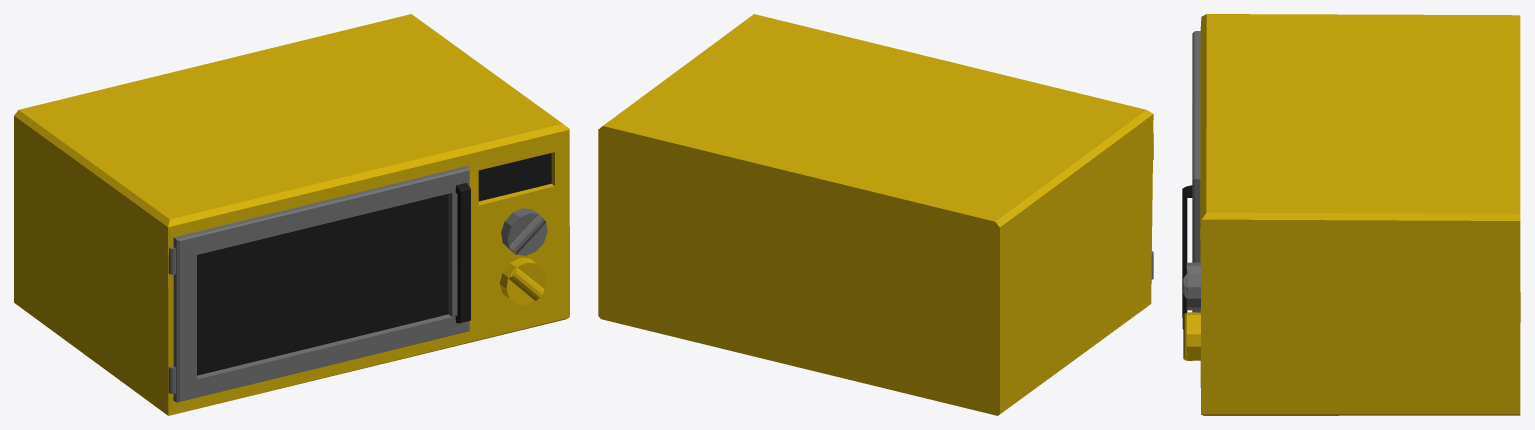
Rendered from LudumDareMicrowave 1.fbx.
3 renders of one model, left to right at view 1: azimuth 30°, elevation 25°; view 2: azimuth 150°, elevation 25°; view 3: azimuth 270°, elevation 25°, orthographic. The views are drawn at different scales.
Visible parts, largest first — view 1: Microwave, Microwave.003, Microwave.006, Microwave.002, Microwave.004, Microwave.001; view 2: Microwave; view 3: Microwave, Microwave.006, Microwave.001, Microwave.004.
Part boxes in pixels (bbox=[...]): Microwave: bbox=[14, 14, 569, 415]; Microwave.003: bbox=[197, 194, 448, 375]; Microwave.006: bbox=[173, 166, 469, 402]; Microwave.002: bbox=[478, 153, 551, 201]; Microwave.004: bbox=[455, 182, 470, 323]; Microwave.001: bbox=[501, 208, 547, 255]; Microwave: bbox=[598, 14, 1153, 415]; Microwave: bbox=[1183, 14, 1520, 415]; Microwave.006: bbox=[1192, 31, 1200, 312]; Microwave.001: bbox=[1183, 262, 1200, 310]; Microwave.004: bbox=[1182, 185, 1192, 329].
Size of the model in its own units: 106 by 49.15 by 74.42.
